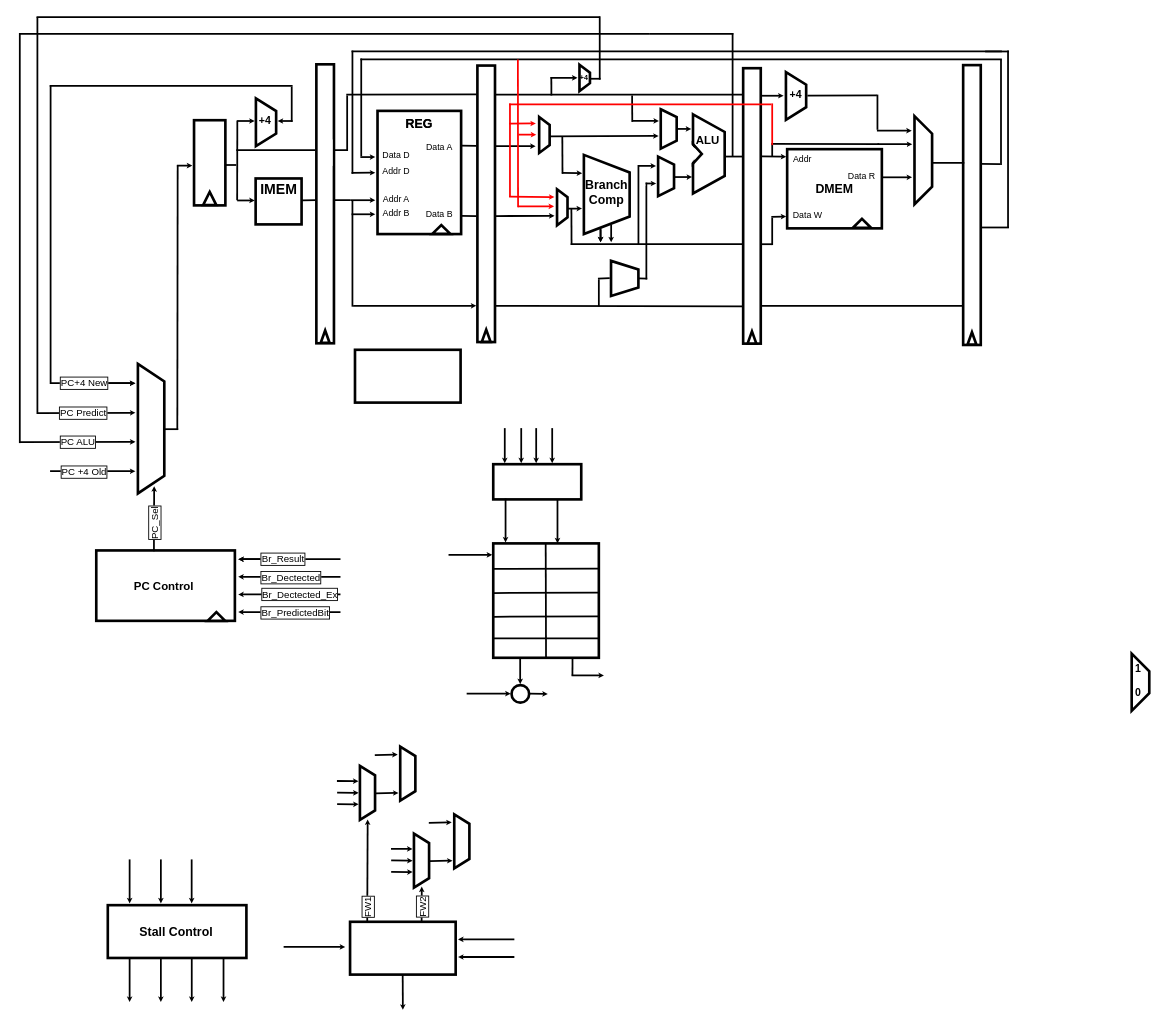
The diagram is 1168 pixels wide and 1027 high, and some of its shapes have lost their labels. Each missing label, with the centre of its shape:
"Control" belongs at (407,375).
"Forward Control" belongs at (402,947).
"IMM" belongs at (624,278).
"Update BTB" belongs at (536,481).
